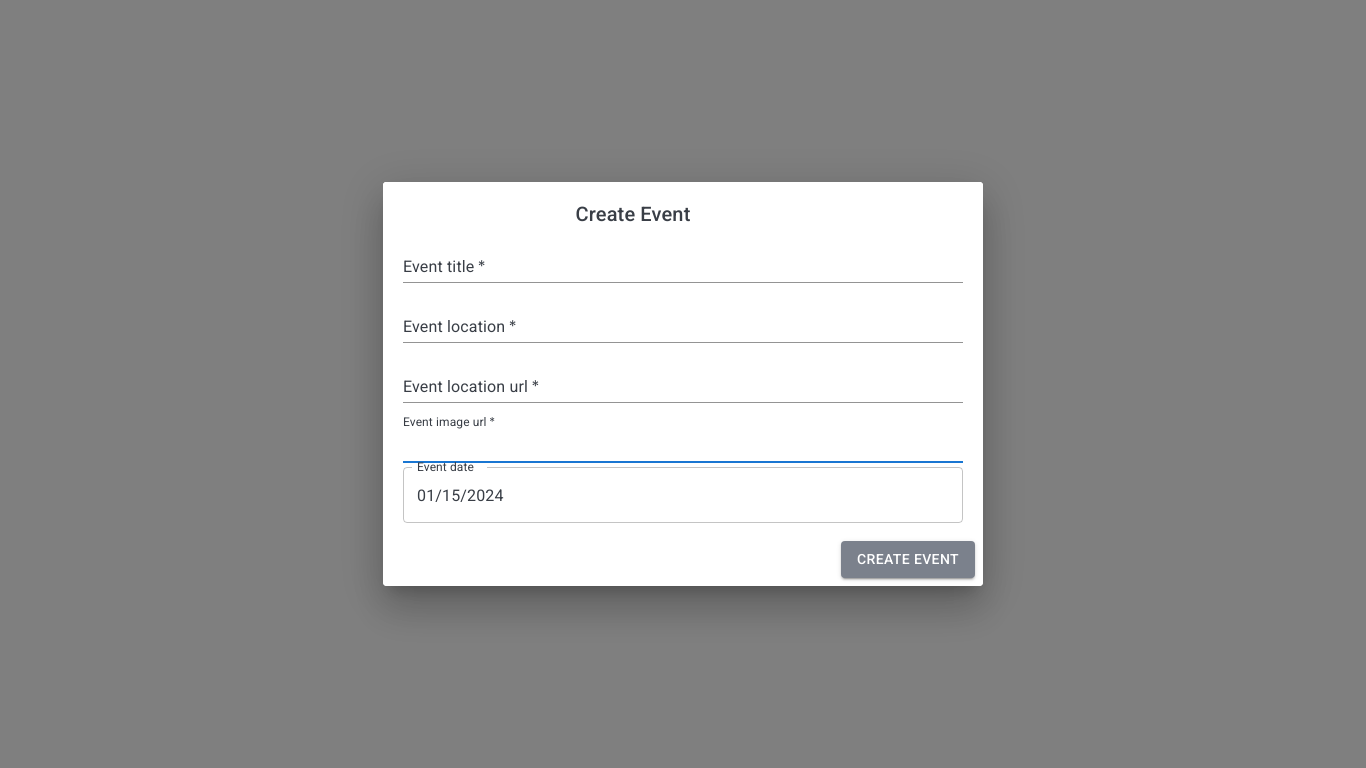
Scenario: Test CreateEventModal validation › should display error labels when leaving required fields empty
Click the button with test id "create-event-modal-button" at (908, 560), box [841,541,975,578]
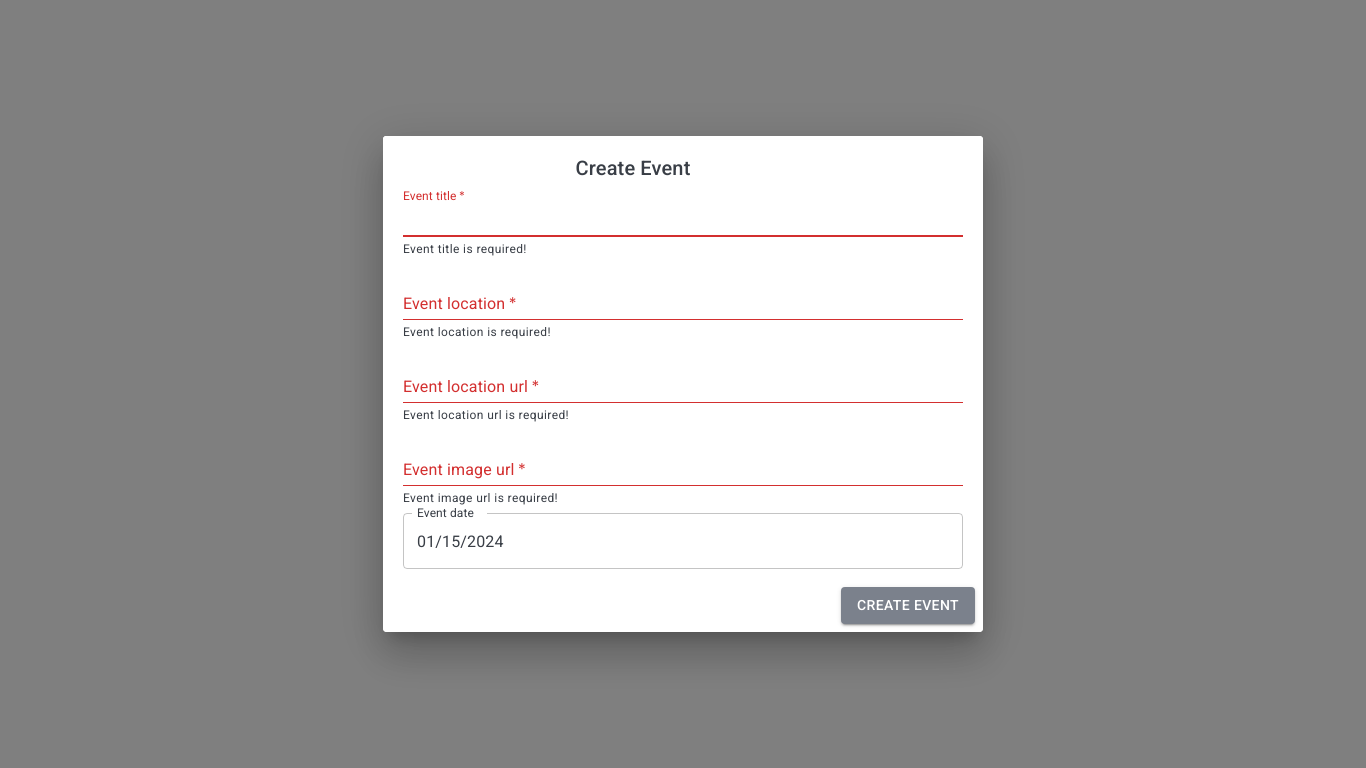
expect the text "Event title is required!" is shown: met, box [403,242,527,256]
expect the text "Event location is required!" is shown: met, box [403,325,551,339]
expect the text "Event location url is required!" is shown: met, box [403,408,569,422]
